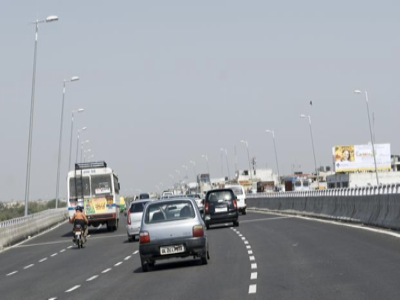licence: (160, 244, 187, 256)
